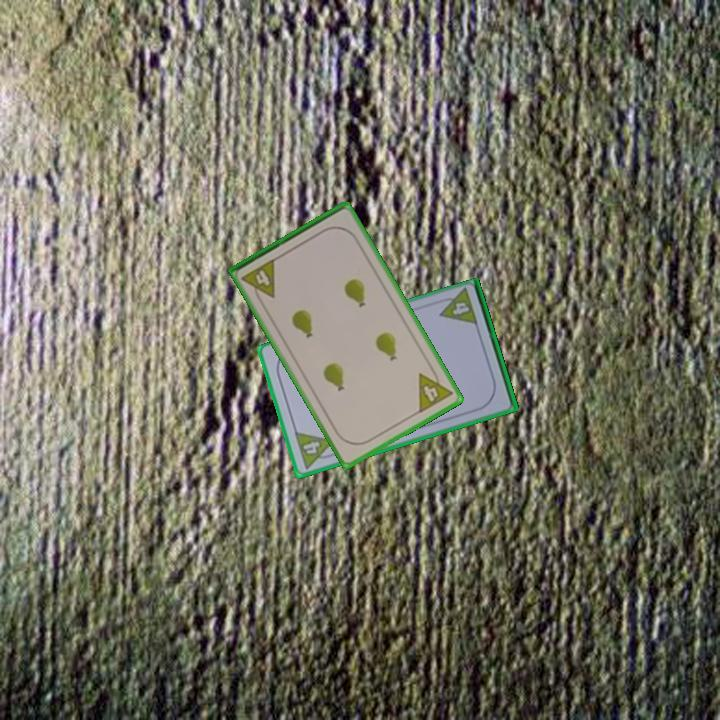4p: (415, 363, 456, 416), (291, 428, 340, 472), (238, 255, 279, 306), (433, 286, 481, 329)
